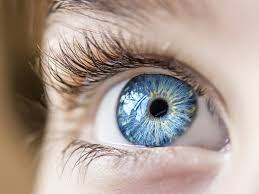pupil: (115, 74, 198, 146)
